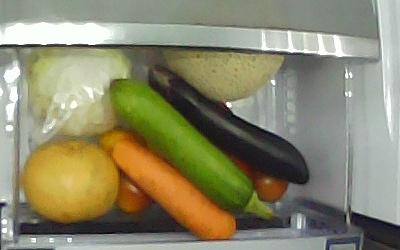cabbage: (25, 46, 133, 136)
carrot: (110, 138, 237, 241)
eggplant: (145, 63, 310, 185)
melon: (159, 47, 284, 102)
pear: (21, 134, 119, 222)
prune: (114, 168, 154, 213), (255, 169, 288, 203)
zucchini: (108, 76, 273, 219)
